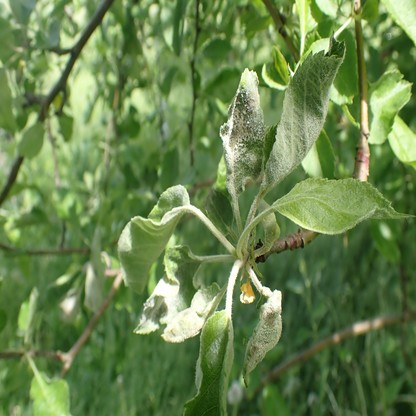powdery_mildew: (267, 32, 345, 199), (274, 178, 416, 233), (218, 68, 266, 196), (183, 310, 234, 415), (243, 290, 282, 387), (162, 284, 221, 342), (137, 275, 177, 334)
